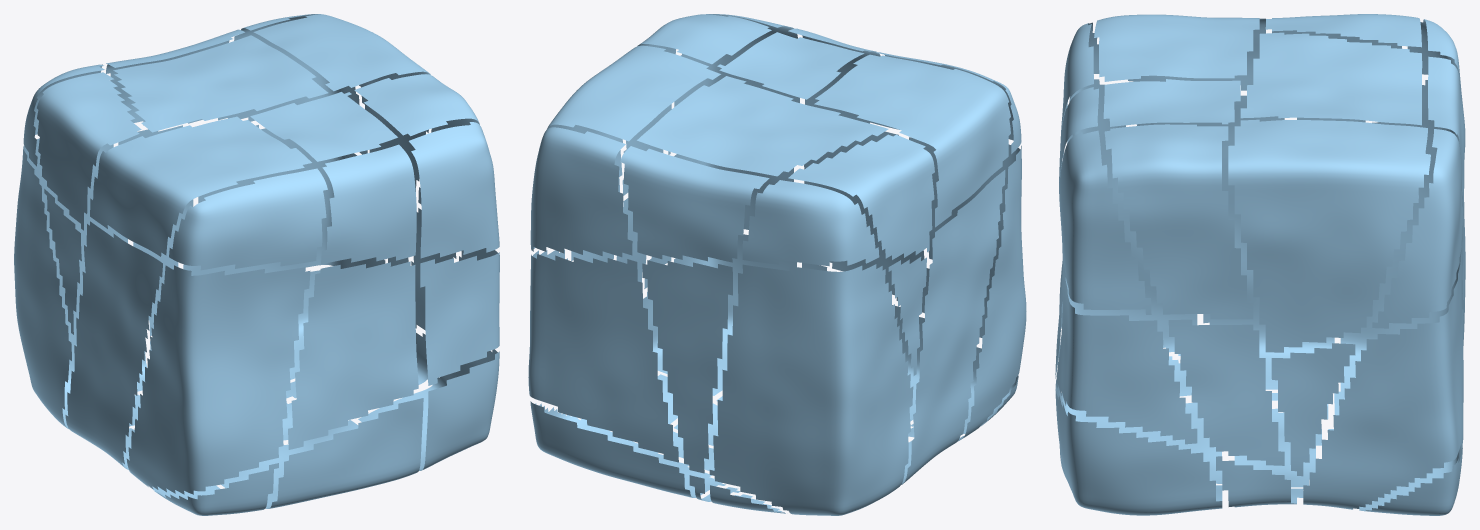
File: BrokenIcecube.fbx
The picture shows the model from 3 angles, left to right: view 1: azimuth 30°, elevation 25°; view 2: azimuth 150°, elevation 25°; view 3: azimuth 270°, elevation 25°; orthographic projection. The views are drawn at different scales.
Visible parts, largest first — view 1: Cube.018, Cube.002, Cube.030, Cube.031, Cube.011, Cube.019, Cube.005, Cube.024, Cube.021, Cube.020, Cube.004, Cube.022 (+13 smaller); view 2: Cube.011, Cube.008, Cube.030, Cube.031, Cube.005, Cube.013, Cube.012, Cube.007, Cube.018, Cube.004, Cube.014, Cube.006 (+14 smaller); view 3: Cube.006, Cube.008, Cube.028, Cube.005, Cube.022, Cube.023, Cube.027, Cube.030, Cube.021, Cube.007, Cube.009, Cube.029 (+12 smaller).
Part boxes in pixels (<box>): Cube.018: <box>126,265,310,494</box>; Cube.002: <box>288,261,418,449</box>; Cube.030: <box>90,116,311,256</box>; Cube.031: <box>65,221,162,469</box>; Cube.011: <box>14,138,140,429</box>; Cube.019: <box>169,168,327,270</box>; Cube.005: <box>113,35,328,132</box>; Cube.024: <box>221,398,423,508</box>; Cube.021: <box>409,122,499,258</box>; Cube.020: <box>321,144,416,264</box>; Cube.004: <box>37,72,141,230</box>; Cube.022: <box>420,248,499,385</box>; Cube.011: <box>709,264,913,515</box>; Cube.008: <box>528,249,714,470</box>; Cube.030: <box>814,54,1010,227</box>; Cube.031: <box>901,170,1005,484</box>; Cube.005: <box>637,76,888,176</box>; Cube.013: <box>620,146,769,262</box>; Cube.012: <box>642,260,732,473</box>; Cube.007: <box>530,127,632,257</box>; Cube.018: <box>909,137,1026,441</box>; Cube.004: <box>788,134,934,259</box>; Cube.014: <box>742,180,879,266</box>; Cube.006: <box>547,45,720,192</box>; Cube.006: <box>1228,119,1430,352</box>; Cube.008: <box>1303,227,1463,509</box>; Cube.028: <box>1104,124,1253,319</box>; Cube.005: <box>1240,32,1422,125</box>; Cube.022: <box>1056,251,1197,444</box>; Cube.023: <box>1055,391,1222,515</box>; Cube.027: <box>1168,319,1284,465</box>; Cube.030: <box>1094,14,1265,90</box>; Cube.021: <box>1059,130,1151,314</box>; Cube.007: <box>1372,129,1463,328</box>; Cube.009: <box>1271,343,1355,476</box>; Cube.029: <box>1103,79,1240,126</box>.
Bounding box in the file's own units: 206 × 207 × 205.
